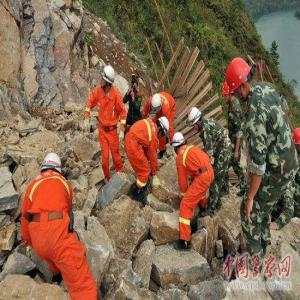red: (227, 59, 253, 104), (222, 82, 235, 102)
white: (42, 152, 64, 178), (188, 106, 202, 131), (156, 115, 170, 139), (172, 131, 186, 155), (102, 66, 116, 87), (151, 92, 164, 112)
